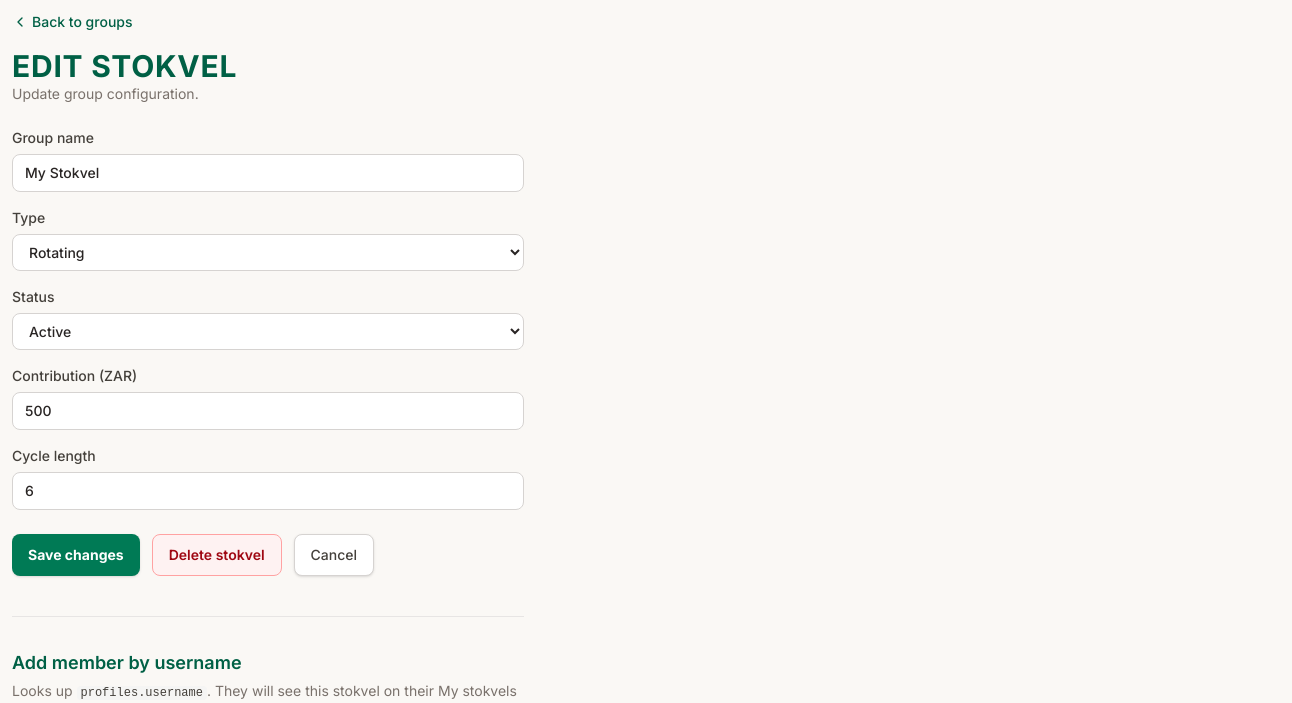
AdminEditStokvel › Update Stokvel › handles save error
The image size is (1292, 703).
Step 1. Click the button "Save changes" → (76, 555), box 12,534 -> 140,576
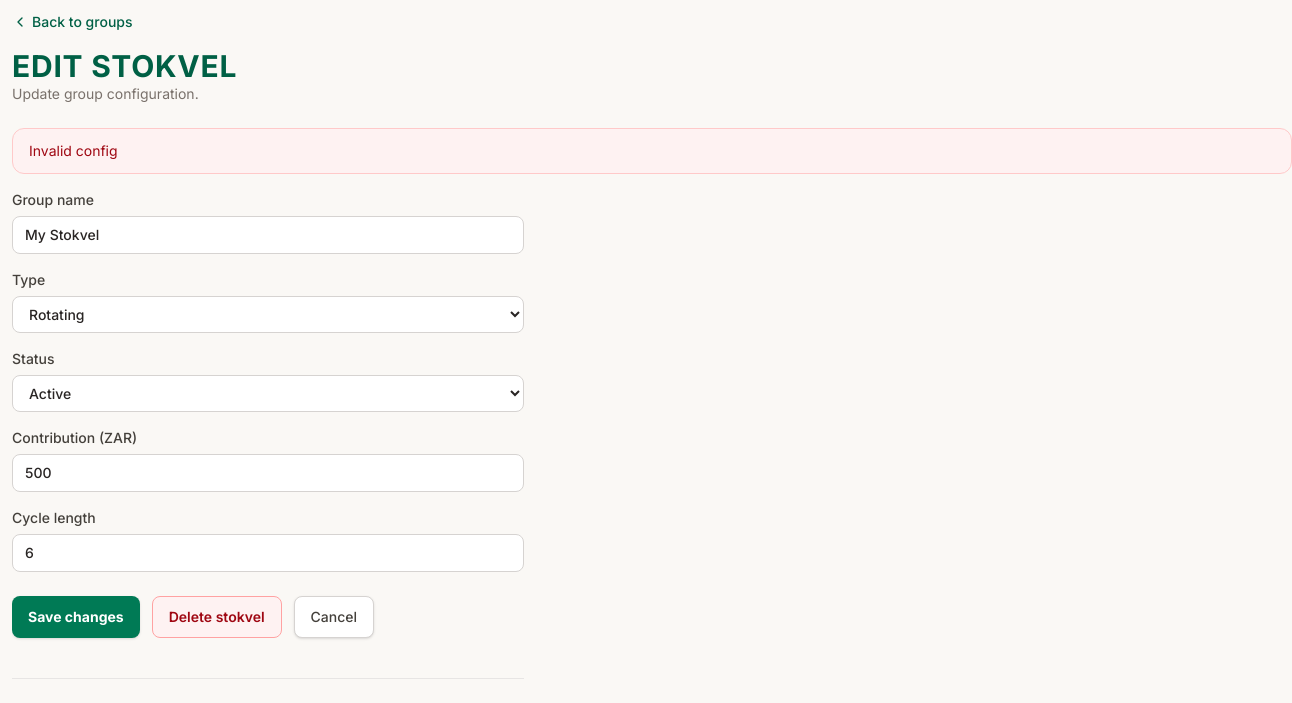
Expected: the text "Invalid config" is shown, 12,128 -> 1291,174
